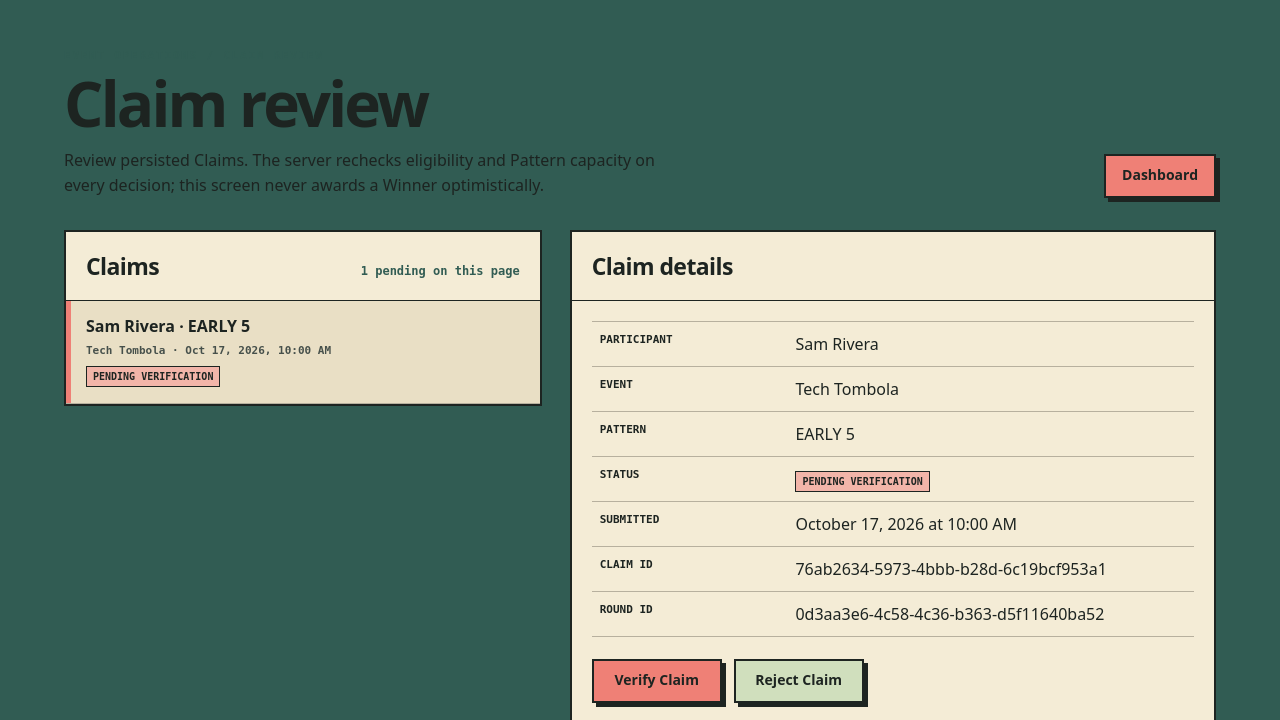
Admin Claim review › rejects with the backend-owned reason and no invented request body
The image size is (1280, 720).
What coordinates should you click on to do the following:
click the button "Reject Claim"
I would click on:
 (799, 681)
Its box is [734,659,864,703].
(page scrolled)
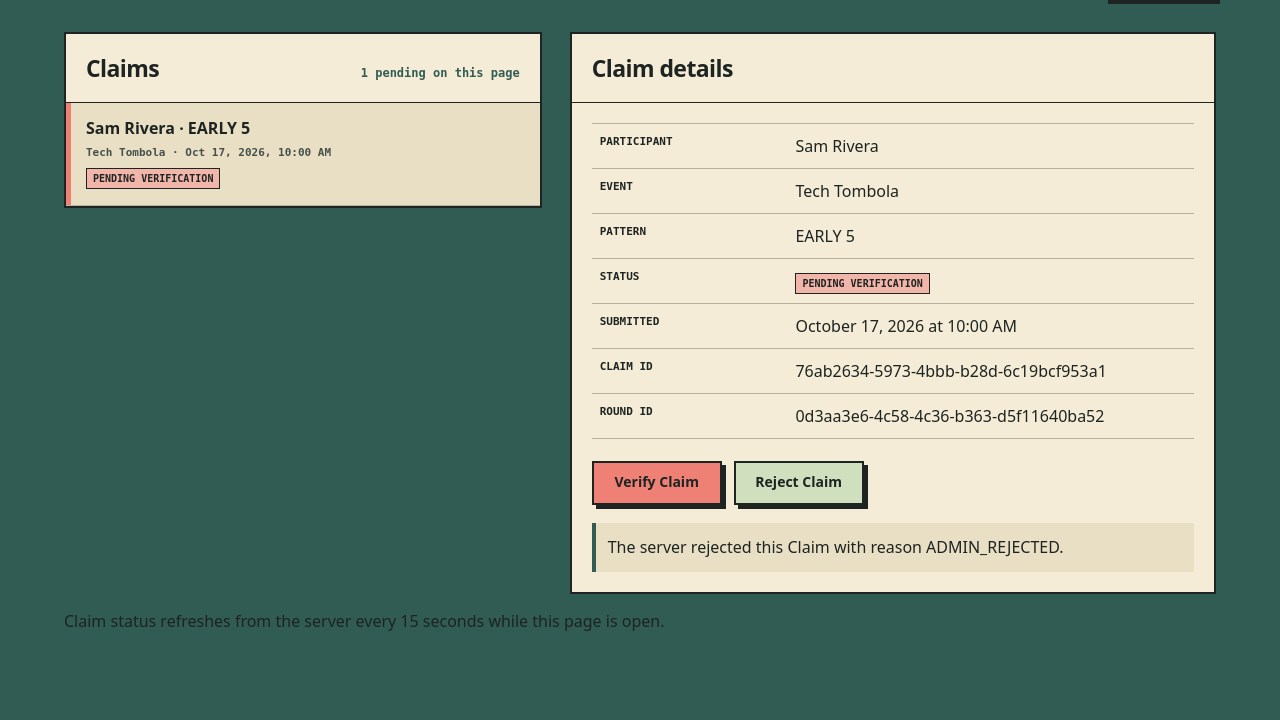
Expected: the text "The server rejected this Claim with reason ADMIN_REJECTED." is shown, [592,523,1194,572]
